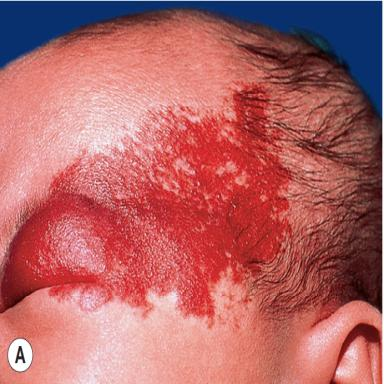Hemangiome: (0, 85, 292, 315)
